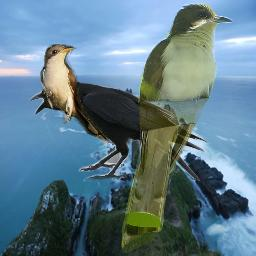Crow: (29, 81, 209, 181)
Cuckoo: (121, 3, 233, 253), (40, 44, 111, 146)
